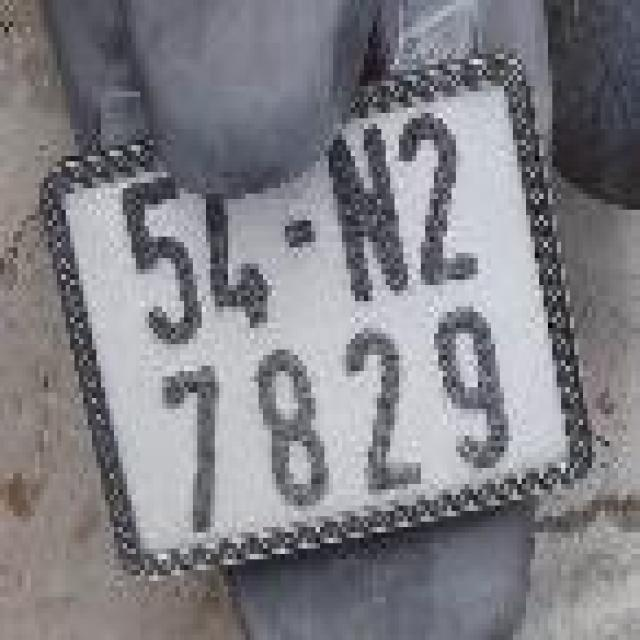2: (390, 93, 492, 298), (342, 315, 425, 492)
4: (184, 136, 292, 345)
5: (109, 160, 217, 361)
7: (154, 358, 232, 546)
8: (252, 344, 331, 511)
9: (427, 296, 511, 478)
N: (317, 103, 422, 322)
